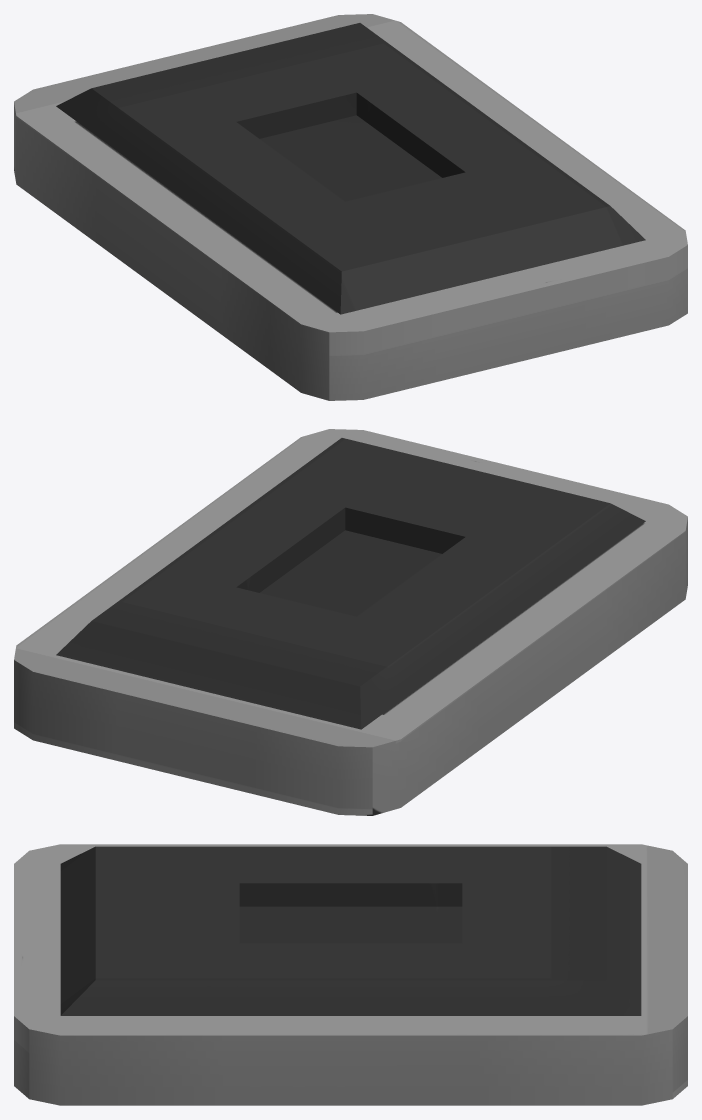
Rendered from Switch1.FBX.
3 views of the same model, one above another, from view 1: azimuth 30°, elevation 25°; view 2: azimuth 150°, elevation 25°; view 3: azimuth 270°, elevation 25° (orthographic). The views are drawn at different scales.
Parts seen in each view (by area): view 1: Box014; view 2: Box014; view 3: Box014.
Part boxes in pixels (bbox=[...]): Box014: bbox=[14, 14, 687, 400]; Box014: bbox=[14, 429, 687, 815]; Box014: bbox=[14, 844, 687, 1105].
Bounding box in the file's own units: 4.6 × 1.08 × 6.85.
1 material, 1 textured.
